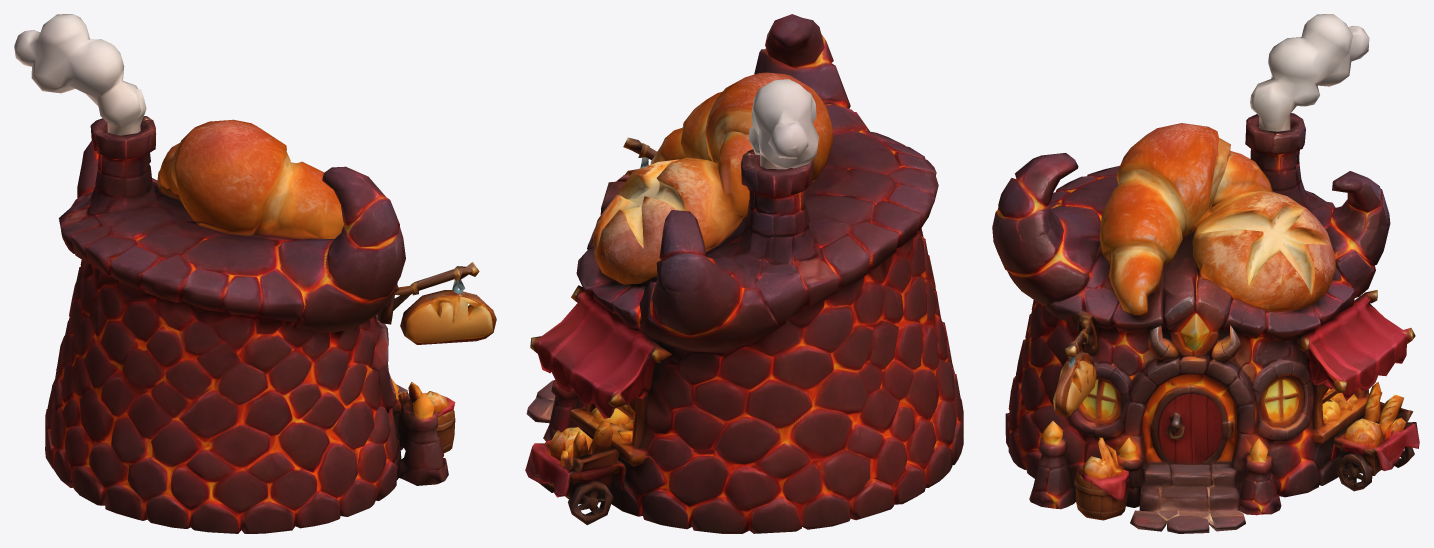
Rendered from Town_Horns_Bakery_raw.glb.
3 renders of one model, left to right at view 1: azimuth 30°, elevation 25°; view 2: azimuth 150°, elevation 25°; view 3: azimuth 270°, elevation 25°, orthographic. The views are drawn at different scales.
Visible parts, largest first — view 1: tripo_node_2c9670af-0efc-46c7-b8c3-88ca1722f4d0; view 2: tripo_node_2c9670af-0efc-46c7-b8c3-88ca1722f4d0; view 3: tripo_node_2c9670af-0efc-46c7-b8c3-88ca1722f4d0.
Part boxes in pixels (left/top/right/bottom): tripo_node_2c9670af-0efc-46c7-b8c3-88ca1722f4d0: left=14, top=14, right=496, bottom=533; tripo_node_2c9670af-0efc-46c7-b8c3-88ca1722f4d0: left=525, top=14, right=963, bottom=533; tripo_node_2c9670af-0efc-46c7-b8c3-88ca1722f4d0: left=992, top=14, right=1419, bottom=533.
Bounding box in the file's own units: 0.9085 × 0.9953 × 1.
Materials: 1 (1 with a texture image).
